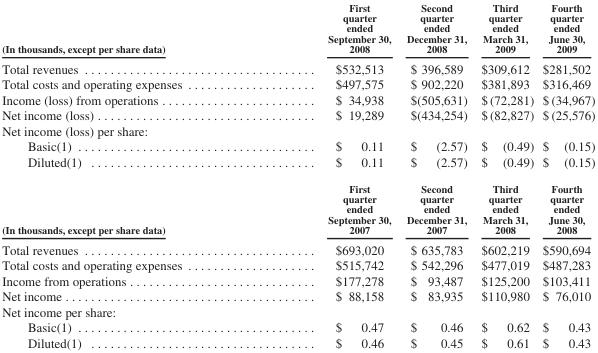table: (1, 1, 594, 349)
table column: (1, 1, 254, 349), (254, 1, 398, 349), (398, 1, 473, 349), (473, 1, 537, 349), (537, 1, 594, 349)
table column header: (1, 1, 594, 57)
table projected row header: (1, 122, 594, 138), (1, 303, 594, 319)
table row: (1, 175, 594, 238), (1, 1, 594, 57), (1, 153, 594, 175), (1, 57, 594, 76), (1, 238, 594, 257), (1, 91, 594, 107), (1, 122, 594, 138), (1, 272, 594, 288), (1, 303, 594, 319), (1, 76, 594, 91), (1, 107, 594, 122), (1, 138, 594, 153), (1, 257, 594, 272), (1, 288, 594, 303), (1, 319, 594, 334), (1, 334, 594, 349)
